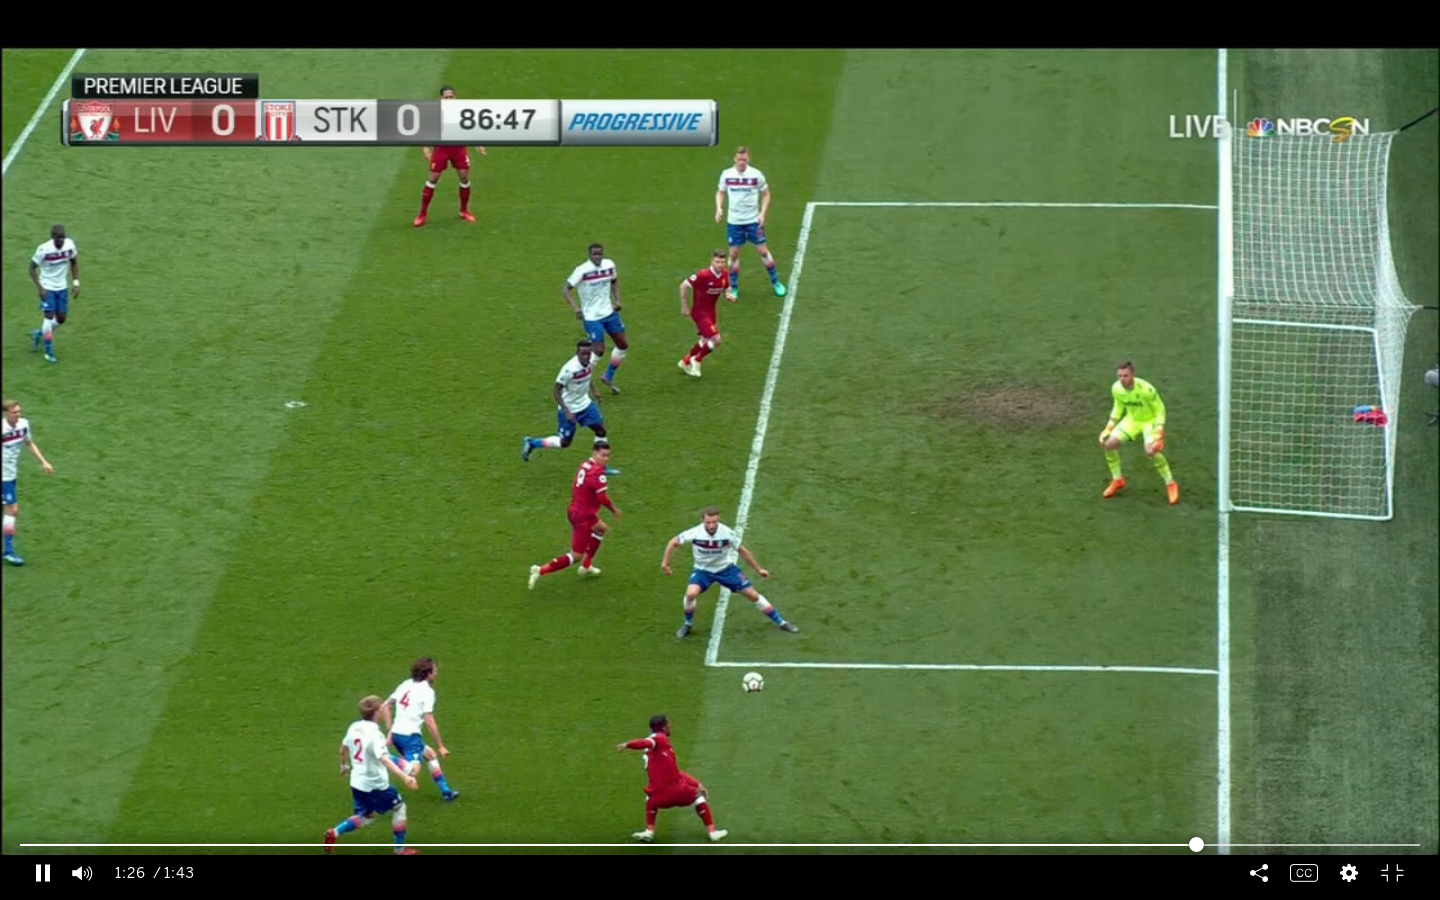soccer player: (658, 511, 801, 639), (321, 696, 419, 852), (527, 442, 618, 600), (407, 77, 492, 232), (621, 714, 719, 843), (1095, 360, 1178, 508), (524, 339, 616, 462), (718, 143, 785, 305), (562, 239, 630, 394), (388, 652, 453, 805), (1, 397, 58, 569), (25, 222, 88, 365), (681, 248, 733, 389)
soccerball: (736, 668, 770, 696)
